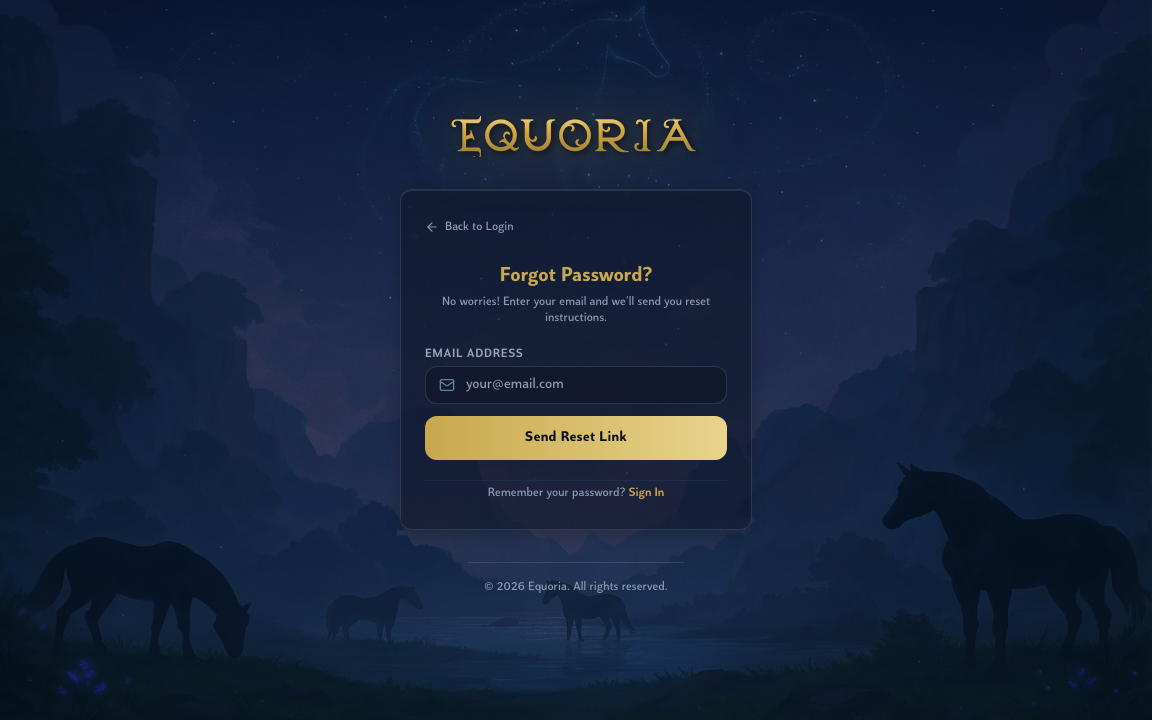
Test: ForgotPasswordPage › Success State › shows success message after successful submission
Type "test@example.com" into the field with placeholder "your@email.com". click: (576, 385)
box: [425,366,727,404]
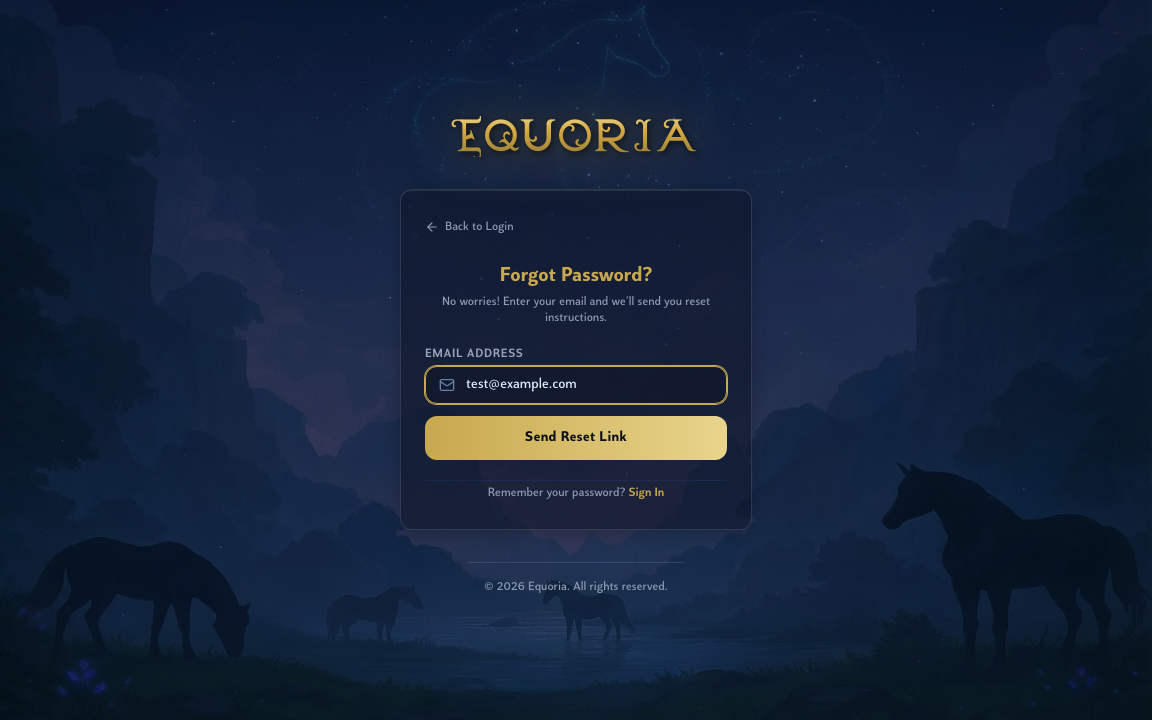
Click the button "Send Reset Link". click: (576, 438)
box: [425,416,727,460]
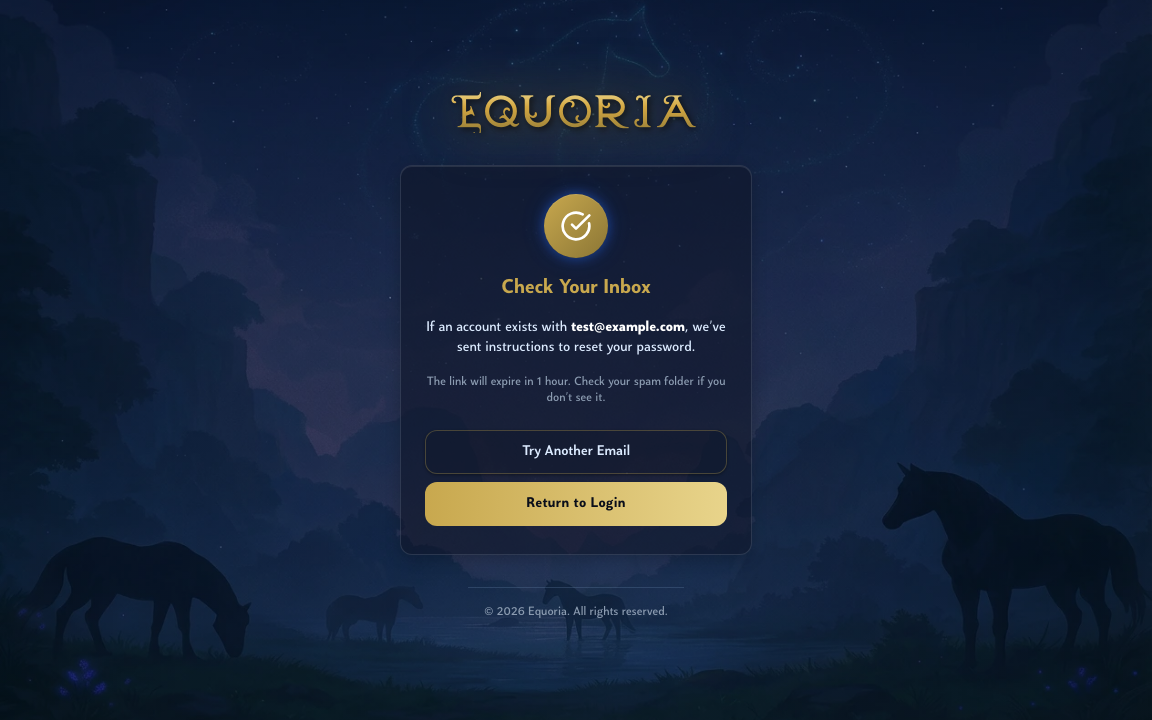
Result: the heading "Check Your Inbox" is shown at [501,278,651,298]
